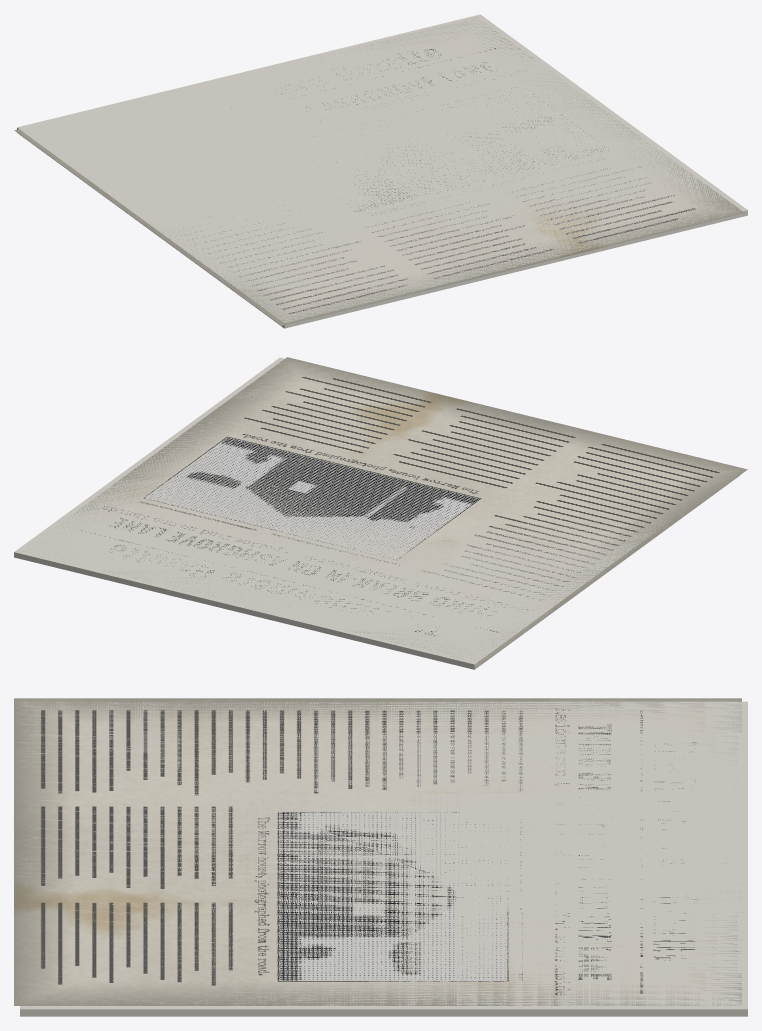
The model's file is SM_Newspaper.fbx.
The picture shows the model from 3 angles, top to bottom: view 1: azimuth 30°, elevation 25°; view 2: azimuth 150°, elevation 25°; view 3: azimuth 270°, elevation 25°; orthographic projection. The views are drawn at different scales.
Visible parts, largest first — view 1: SM_Newspaper_1; view 2: SM_Newspaper_1; view 3: SM_Newspaper_1.
Boxes of the visible parts, x1=… form: SM_Newspaper_1: x1=14, y1=14, x2=747, y2=328; SM_Newspaper_1: x1=14, y1=357, x2=747, y2=669; SM_Newspaper_1: x1=14, y1=698, x2=747, y2=1016.
Bounding box in the file's own units: 36.4 × 0.4 × 36.3.
